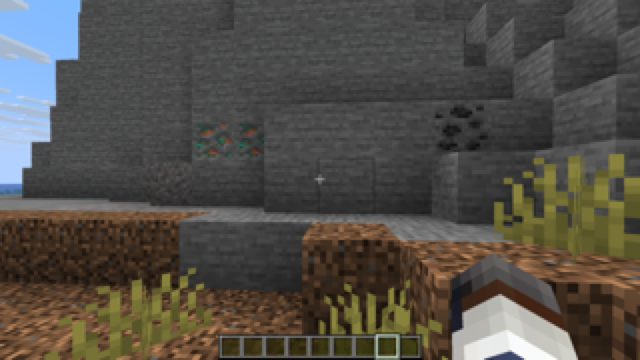coal: (431, 99, 489, 154)
copper: (191, 121, 265, 162)
